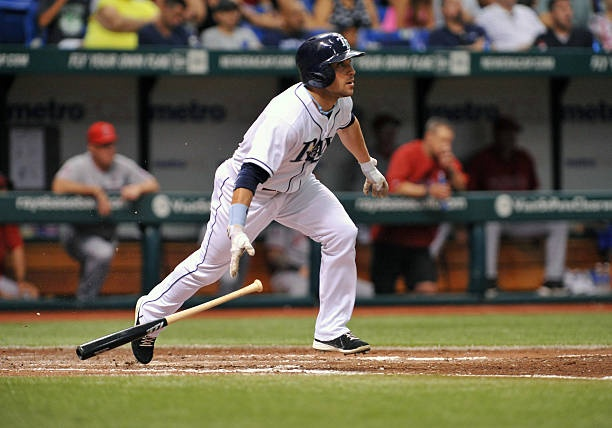bita: (71, 278, 263, 358)
